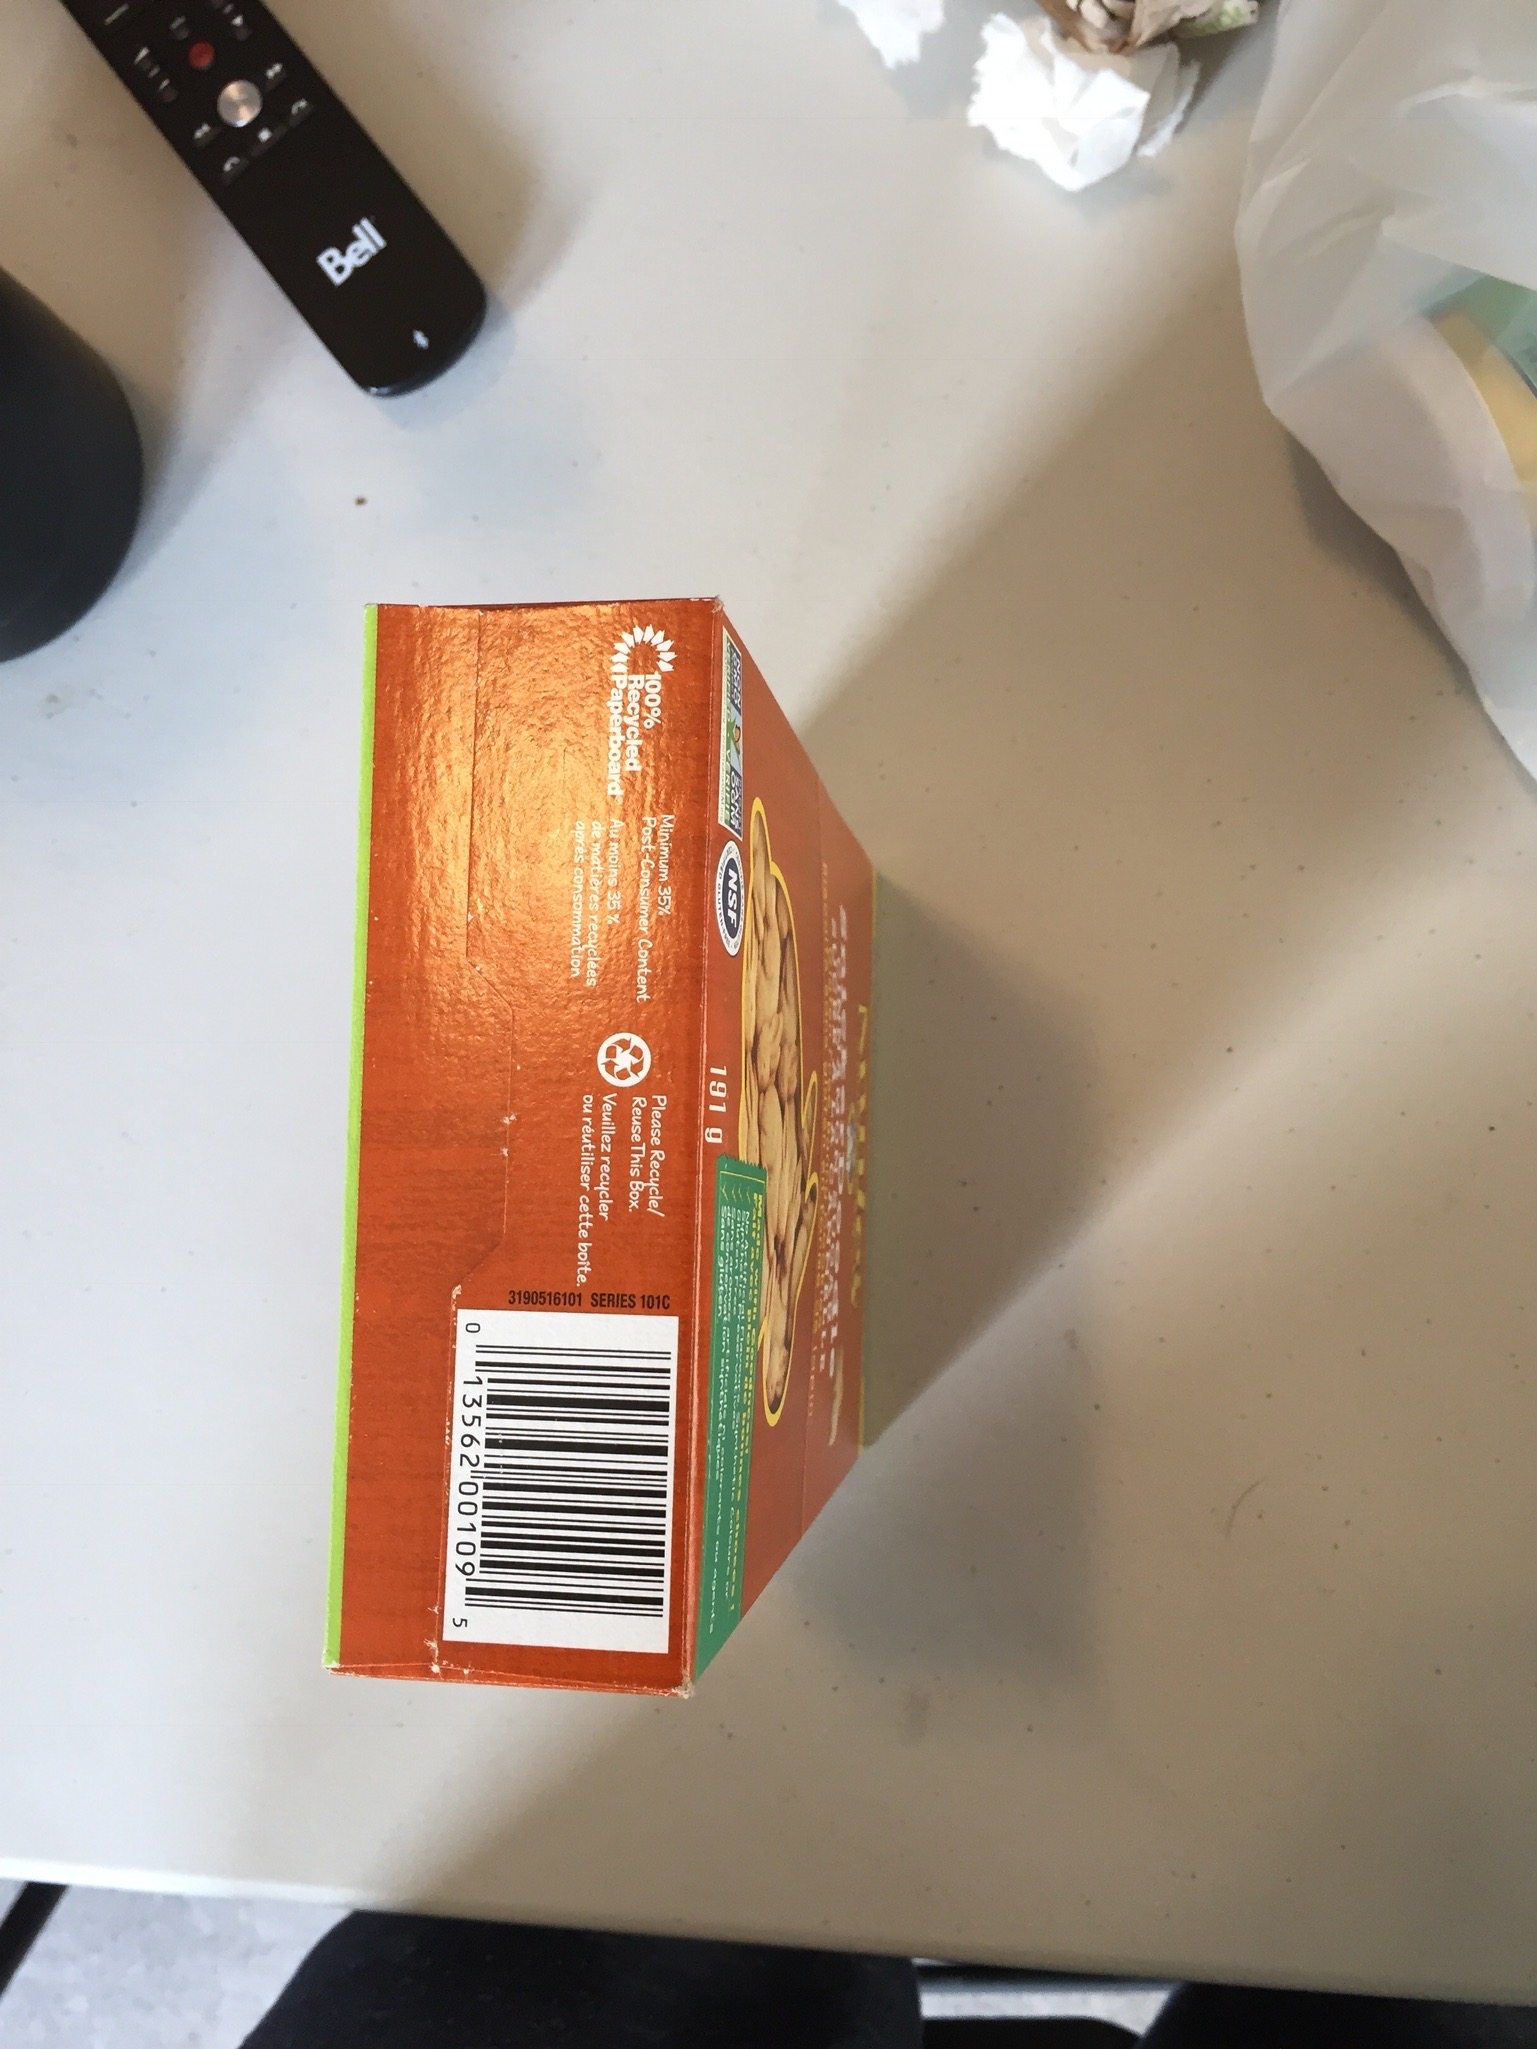annies_snickerdoodles_cinnamon_sugar: (371, 609, 739, 1628)
